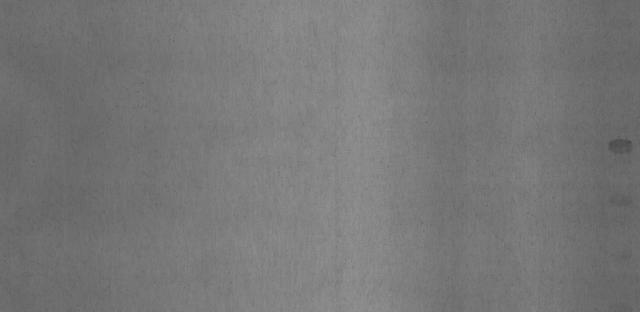oil_spot: (606, 134, 634, 156)
